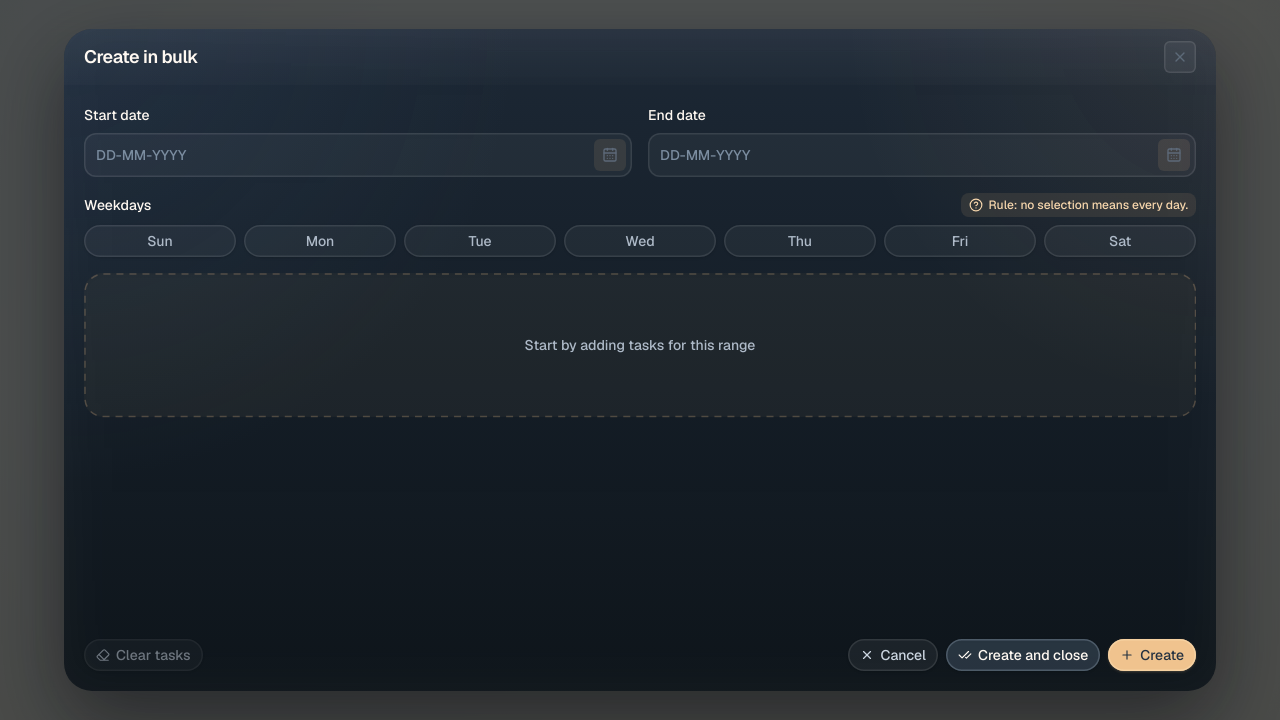
Test: BulkCalendarEditor › shows the row selector in create mode drafts
What coordinates should you click on to do the following:
click the button "Start by adding tasks for this range"
I would click on:
 (640, 345)
Its box is [84, 273, 1196, 417].
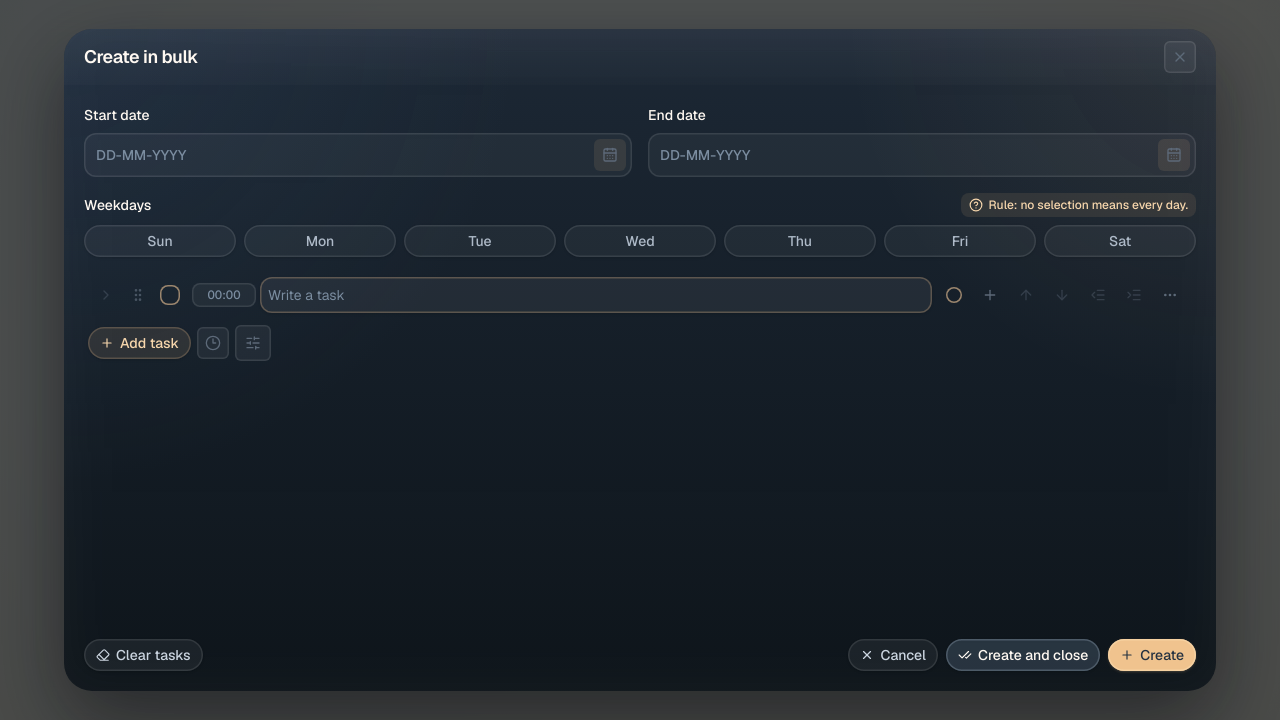
Expected: the button named "Select task" is shown, [936, 277, 972, 313]
